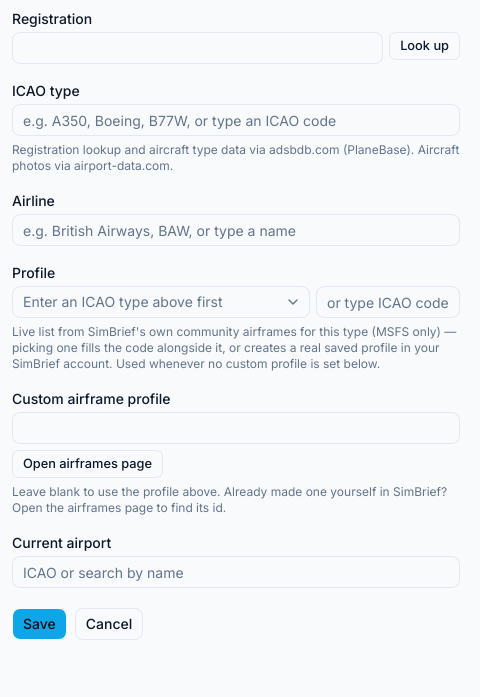
Test: AircraftForm › shows "Enter a registration first." when Look up is clicked with no registration
This screenshot has width=480, height=697.
Click the button "Look up" at [425, 46], box [389,32,460,60]
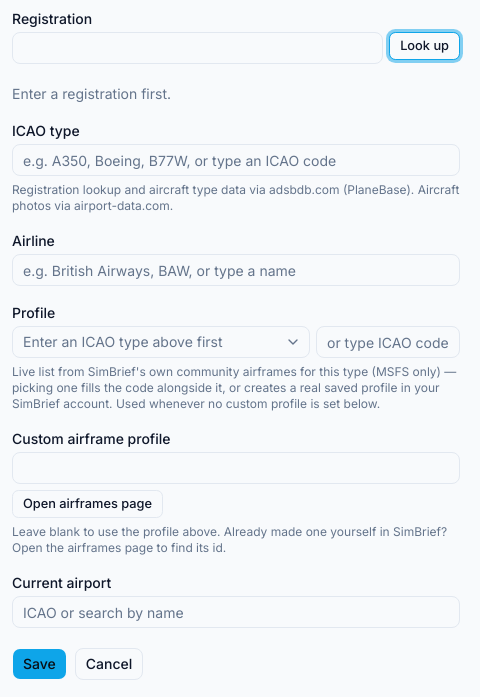
Result: the text "Enter a registration first." is shown at [12,85,171,102]
